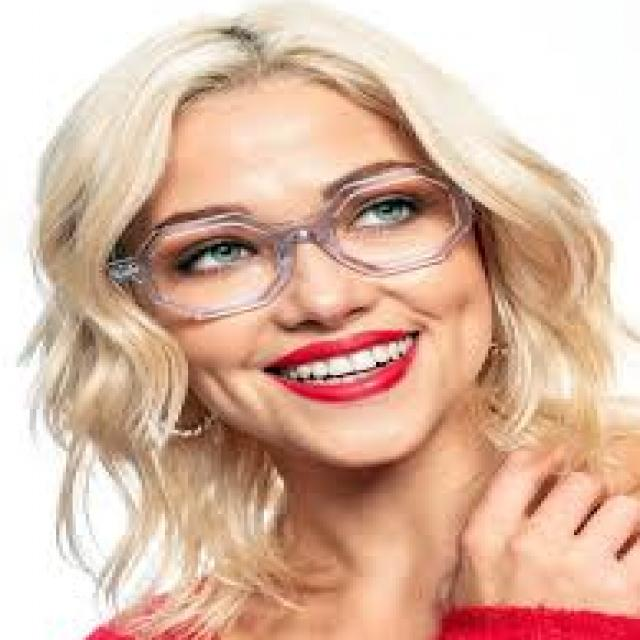Glasses: (95, 161, 504, 322)
